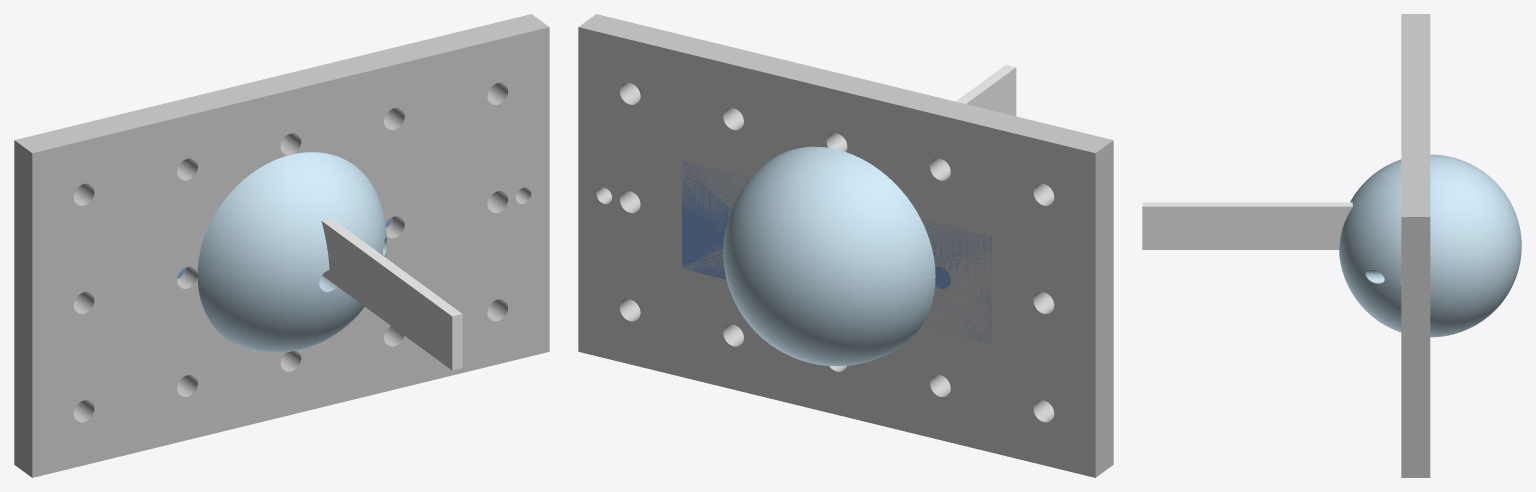
The picture shows the model from 3 angles, left to right: view 1: azimuth 30°, elevation 25°; view 2: azimuth 150°, elevation 25°; view 3: azimuth 270°, elevation 25°; orthographic projection. The views are drawn at different scales.
Visible parts, largest first — view 1: Part 2, Part 1, Part 4; view 2: Part 2, Part 1, Part 3, Part 4; view 3: Part 1, Part 2, Part 4.
Boxes of the visible parts, bbox=[...] form: Part 2: bbox=[14, 14, 549, 477]; Part 1: bbox=[182, 138, 386, 352]; Part 4: bbox=[321, 218, 462, 370]; Part 2: bbox=[578, 14, 1113, 477]; Part 1: bbox=[723, 141, 935, 366]; Part 3: bbox=[682, 160, 992, 343]; Part 4: bbox=[956, 65, 1016, 116]; Part 1: bbox=[1339, 154, 1521, 337]; Part 2: bbox=[1401, 14, 1430, 477]; Part 4: bbox=[1142, 202, 1352, 249].
Bounding box in the file's own units: 0.2 × 0.12 × 0.1581.
